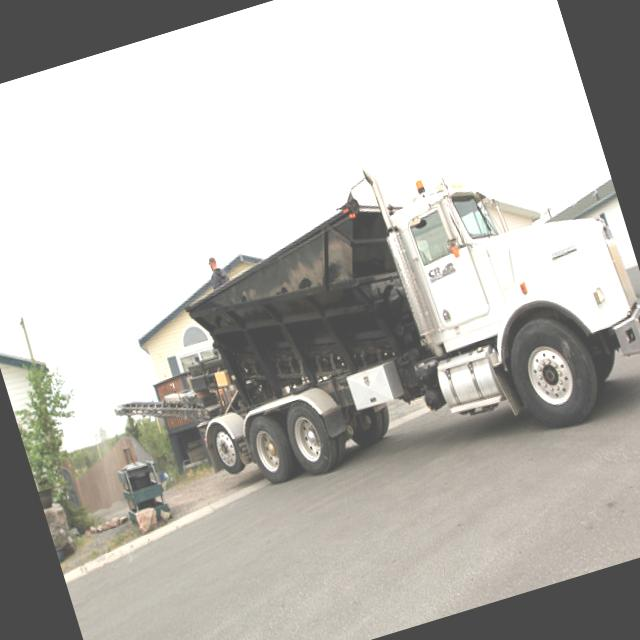Vehicle: (144, 105, 640, 521)
